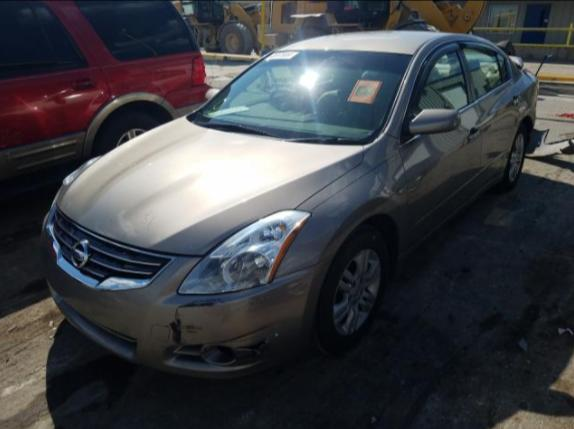Dent: (361, 156, 370, 167)
Flaking: (117, 208, 156, 237), (94, 222, 116, 239)
Paint chip: (167, 296, 225, 345)
Scratch: (287, 275, 310, 295)
